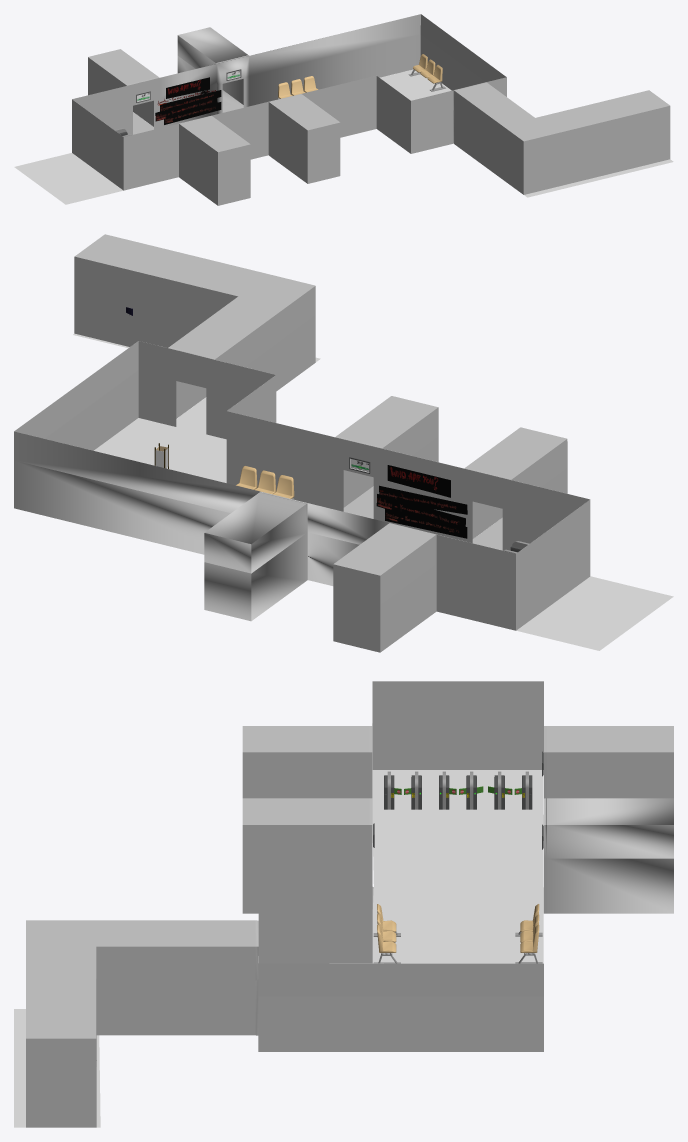
Rendered from tutorialMap.fbx.
3 renders of one model, top to bottom at view 1: azimuth 30°, elevation 25°; view 2: azimuth 150°, elevation 25°; view 3: azimuth 270°, elevation 25°, orthographic. The views are drawn at different scales.
Parts seen in each view (by area): view 1: Vægge, Gulv, worker, Stole.001, Stole.002, Who are you, Teamleader, Seeker; view 2: Vægge, Gulv, worker.001, Stole, Who are you.001, Teamleader.001, Seeker.001; view 3: Vægge, Gulv, Check ind dobbel, Check Ind dobbel, Stole.002, Stole.
Boxes of the visible parts, <box> form: Vægge: <box>72,14,670,205</box>; Gulv: <box>14,69,673,204</box>; worker: <box>155,95,217,121</box>; Stole.001: <box>408,54,445,91</box>; Stole.002: <box>277,76,318,99</box>; Who are you: <box>166,77,209,98</box>; Teamleader: <box>160,90,221,111</box>; Seeker: <box>164,102,221,124</box>; Vægge: <box>14,234,590,652</box>; Gulv: <box>73,333,673,650</box>; worker.001: <box>376,494,465,531</box>; Stole: <box>236,466,294,499</box>; Who are you.001: <box>387,465,450,497</box>; Teamleader.001: <box>379,485,467,514</box>; Seeker.001: <box>385,509,467,538</box>; Vægge: <box>26,681,673,1127</box>; Gulv: <box>14,723,543,1127</box>; Check ind dobbel: <box>384,771,421,809</box>; Check Ind dobbel: <box>439,771,476,809</box>; Stole.002: <box>515,904,542,963</box>; Stole: <box>373,904,400,963</box>.
Size of the model in its own units: 4383 by 452 by 3023.
